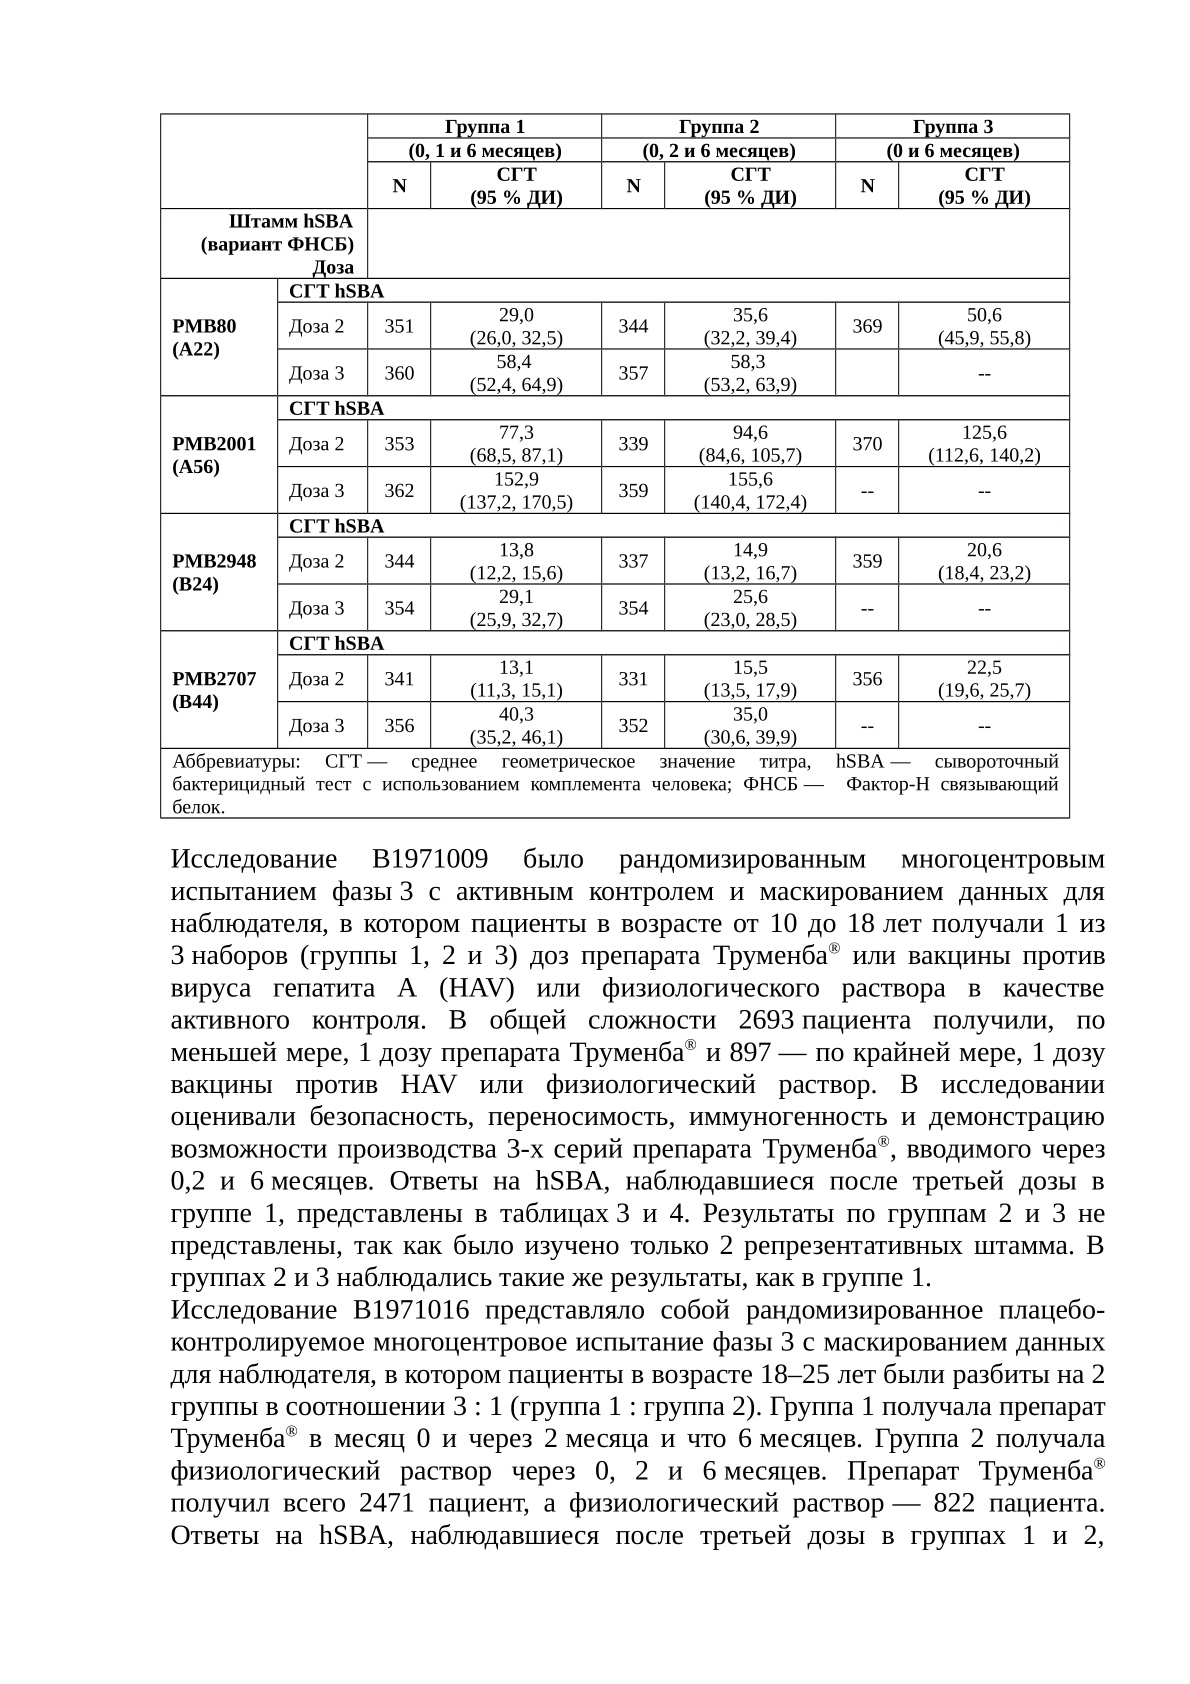merged_cells: (158, 111, 1072, 819)
